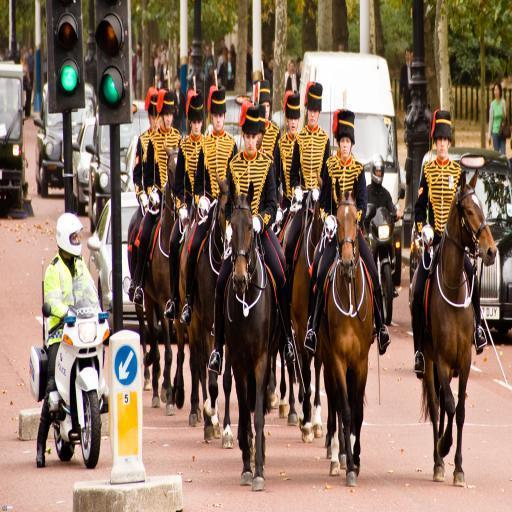horse: (126, 143, 376, 491), (410, 168, 498, 490)
